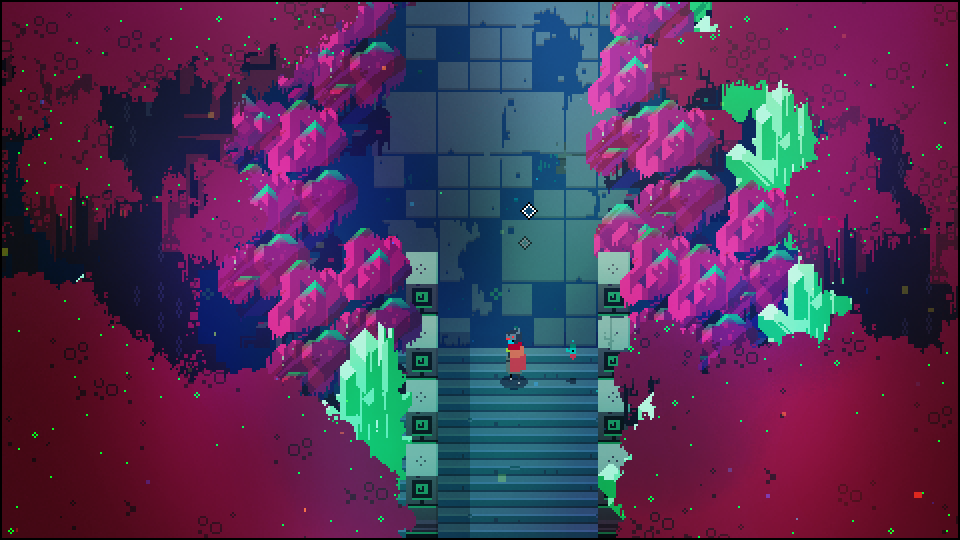player: (503, 325, 526, 379)
